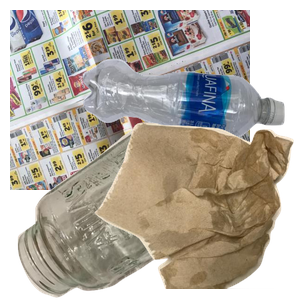glass: (15, 126, 229, 300)
paper: (10, 10, 250, 190)
plastic: (80, 56, 300, 187)
trash: (92, 120, 300, 300)
